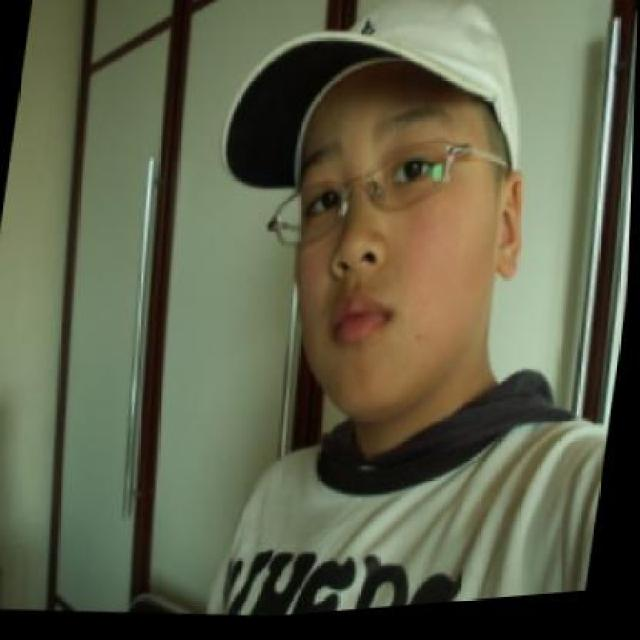hat: (215, 0, 551, 229)
